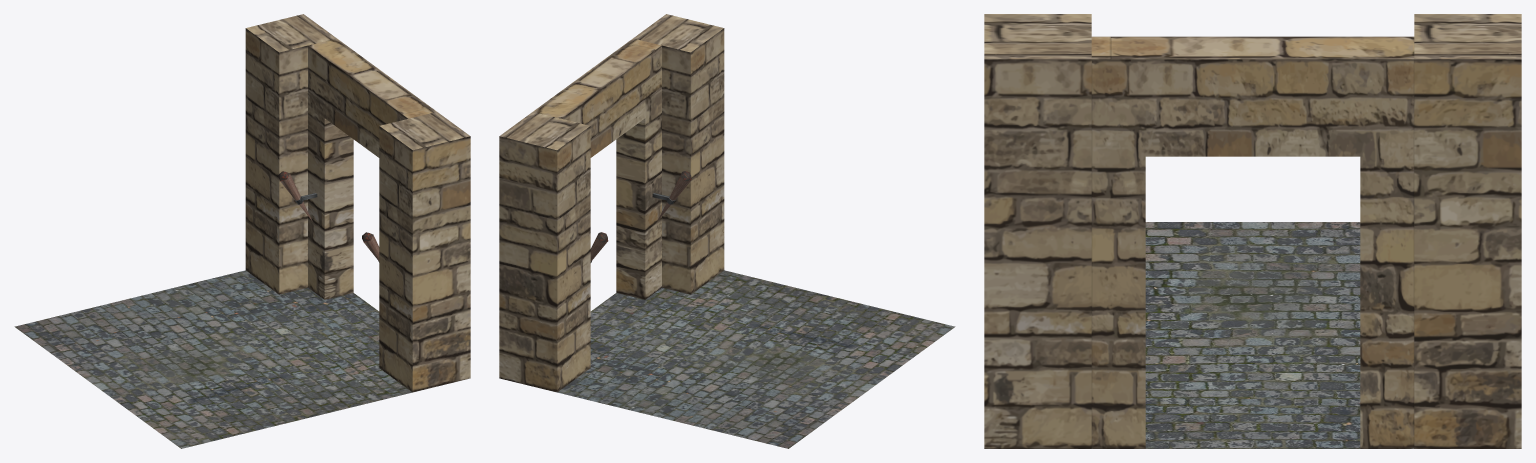
File: 1-NESW-eastDoor.fbx
3 renders of one model, left to right at view 1: azimuth 30°, elevation 25°; view 2: azimuth 150°, elevation 25°; view 3: azimuth 270°, elevation 25°, orthographic. The views are drawn at different scales.
Parts seen in each view (by area): view 1: Cube_1_3, Plane, Cube; view 2: Cube_1_3, Plane, Cube; view 3: Cube_1_3, Plane.
Part boxes in pixels (x1,y1,x2,y2): Cube_1_3: [245, 14, 470, 392]; Plane: [14, 270, 412, 448]; Cube: [324, 118, 353, 299]; Cube_1_3: [499, 14, 724, 392]; Plane: [557, 270, 955, 448]; Cube: [616, 118, 645, 299]; Cube_1_3: [984, 14, 1521, 448]; Plane: [1145, 222, 1360, 448].
Size of the model in its own units: 10 by 8 by 10.
Materials: 6 (6 with a texture image).
